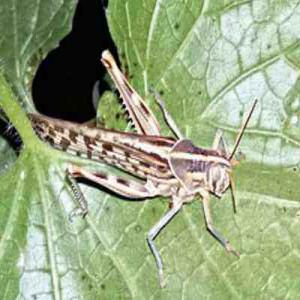locust: (20, 87, 264, 217)
